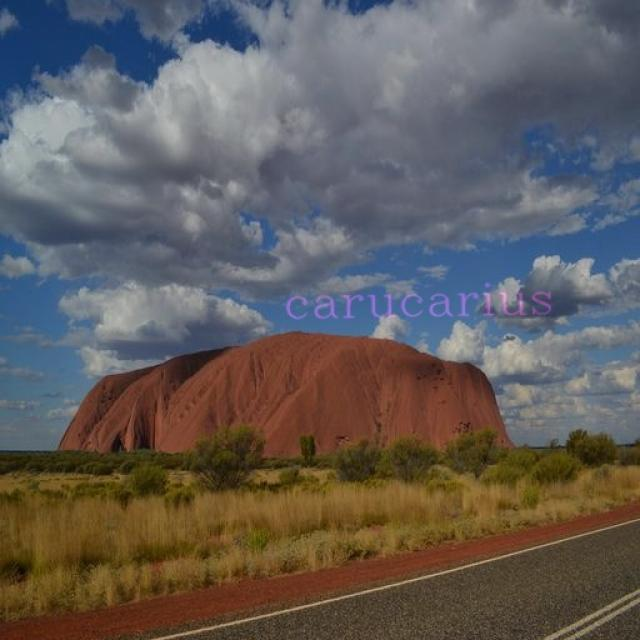watermark: (272, 279, 554, 326)
